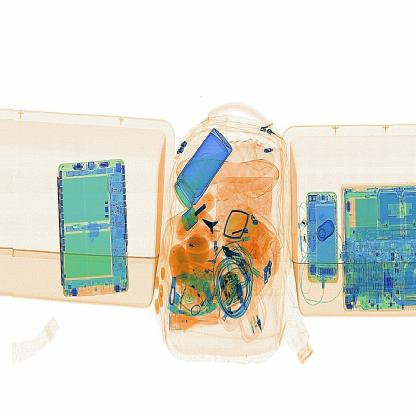gun: (200, 212, 229, 242)
